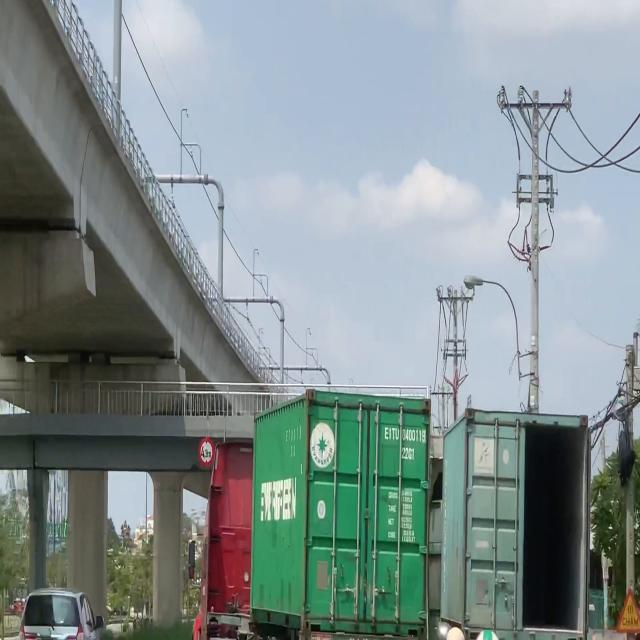Chieu cao toi da: (198, 437, 215, 467)
